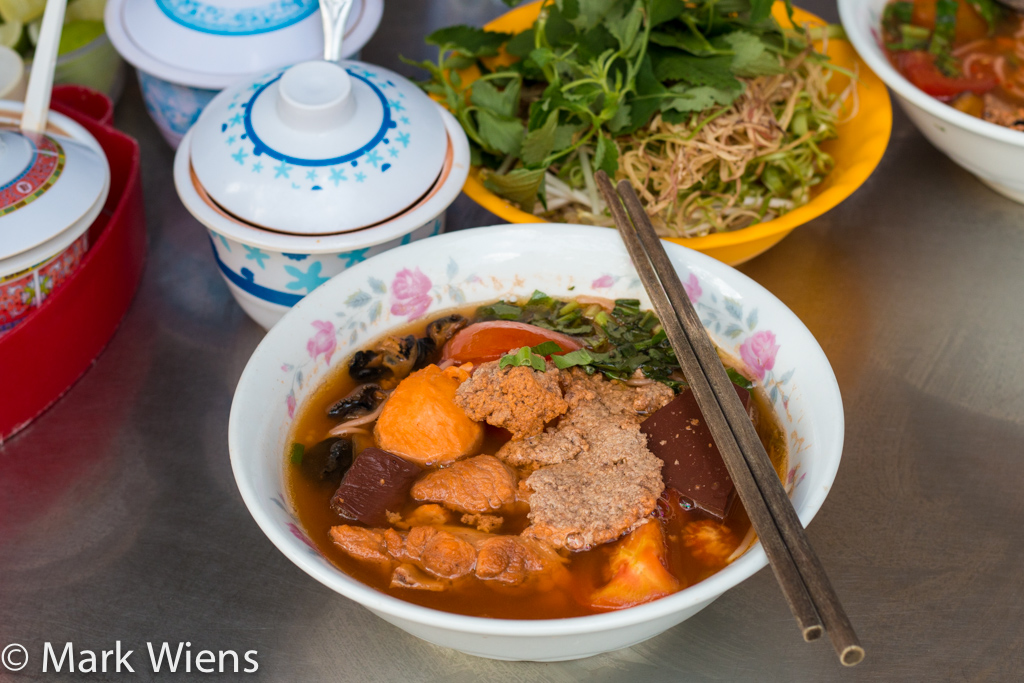pork: (336, 504, 566, 594), (419, 459, 525, 518)
rieu: (536, 455, 646, 550), (522, 394, 643, 469), (462, 357, 569, 433)
tofu: (378, 366, 485, 457)
tomato: (585, 497, 675, 606), (438, 315, 598, 371)
